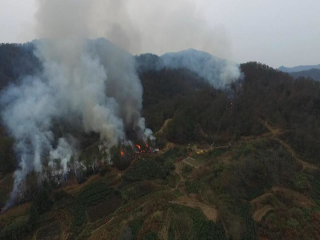smoke: (2, 5, 245, 183)
